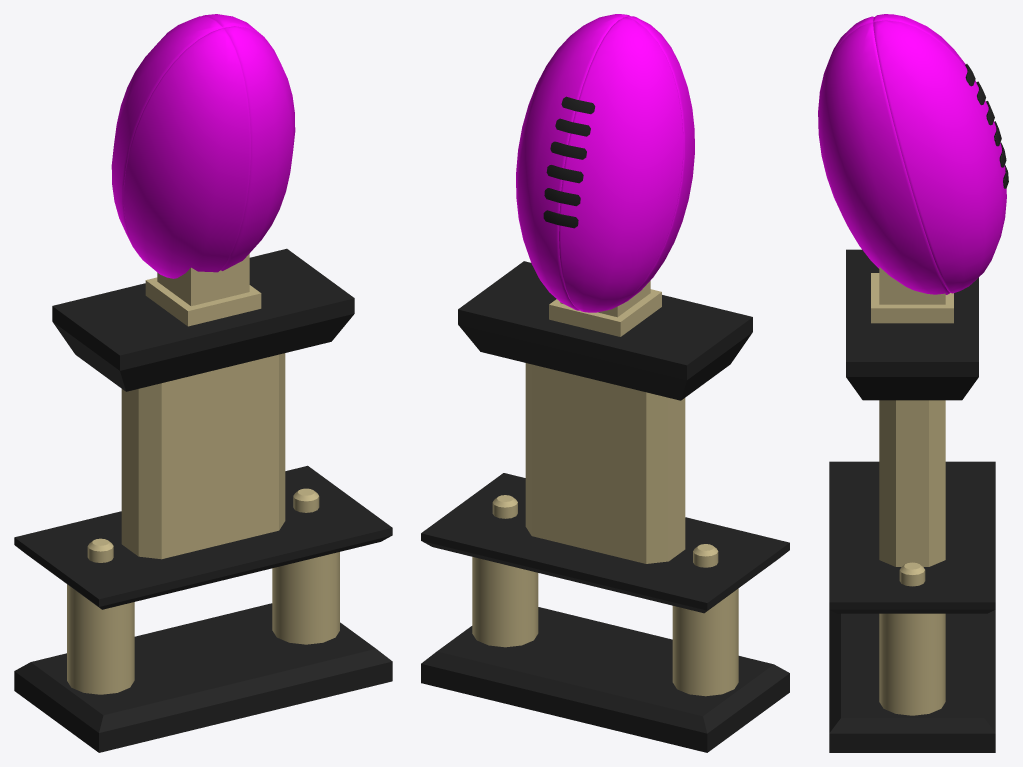
The model's file is Trophy.fbx.
The picture shows the model from 3 angles, left to right: view 1: azimuth 30°, elevation 25°; view 2: azimuth 150°, elevation 25°; view 3: azimuth 270°, elevation 25°; orthographic projection. The views are drawn at different scales.
Visible parts, largest first — view 1: pCube39, pSphere1, pCube41, pCube40, pCylinder20, pCube42; view 2: pCube39, pSphere1, pCube41, pCube40, pCylinder20, pCube42, pSphere2; view 3: pSphere1, pCube39, pCube40, pCube41, pCylinder20, pCube42, pSphere2, pCylinder23.
Boxes of the visible parts, box(x1,y1,x2,y2) form: pCube39: box(14, 465, 392, 752); pSphere1: box(111, 14, 295, 278); pCube41: box(121, 353, 285, 559); pCube40: box(52, 248, 354, 391); pCylinder20: box(67, 552, 339, 694); pCube42: box(145, 254, 261, 326); pCube39: box(421, 473, 789, 752); pSphere1: box(516, 14, 694, 312); pCube41: box(525, 363, 685, 563); pCube40: box(458, 261, 752, 400); pCylinder20: box(472, 557, 738, 696); pCube42: box(549, 281, 661, 336); pSphere2: box(543, 96, 595, 228); pSphere1: box(818, 14, 1006, 294); pCube39: box(829, 461, 995, 752); pCube40: box(846, 249, 978, 400); pCube41: box(879, 400, 945, 566); pCylinder20: box(879, 613, 945, 715); pCube42: box(871, 267, 953, 323); pSphere2: box(965, 64, 1008, 188); pCylinder23: box(899, 562, 925, 586).
Size of what is drawn, in the model's own units: 100 by 220 by 57.36.
Materials: 1 (1 with a texture image).
